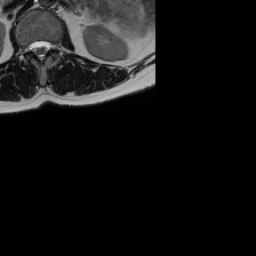CCS_normal: (36, 32, 43, 67)
LFS_normal: (51, 33, 57, 58)
LLS_normal: (43, 33, 51, 59)
RFS_normal: (21, 37, 28, 59)
RLS_normal: (28, 34, 36, 59)
